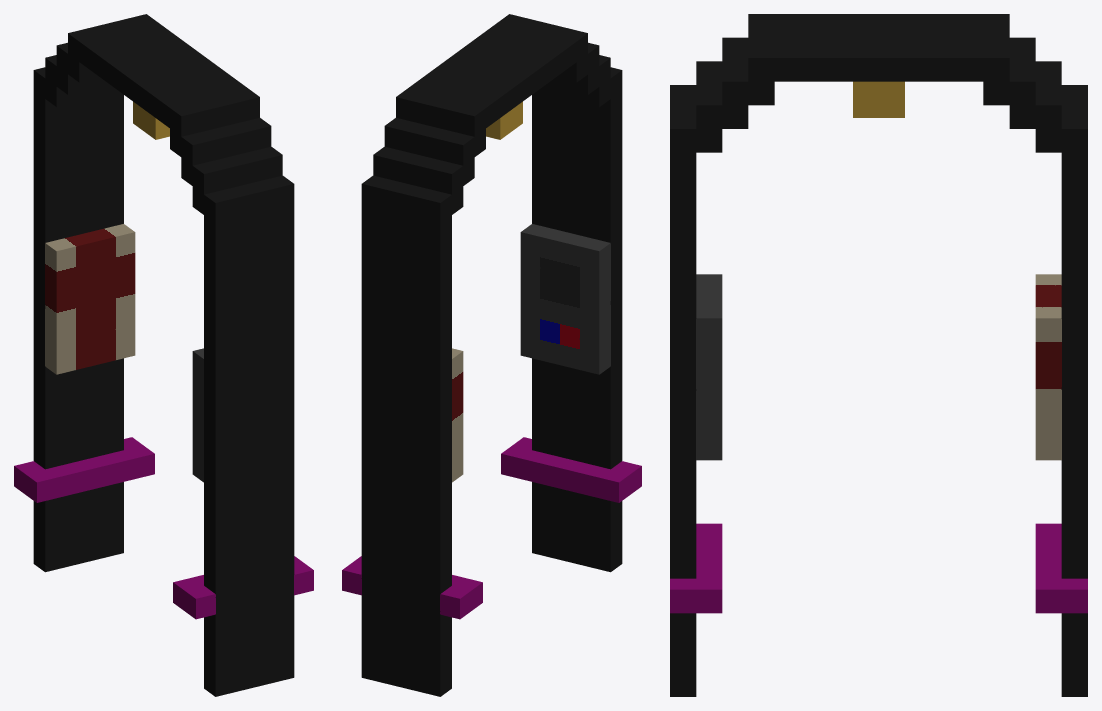
Rendered from ArchMagenta.fbx.
3 renders of one model, left to right at view 1: azimuth 30°, elevation 25°; view 2: azimuth 150°, elevation 25°; view 3: azimuth 270°, elevation 25°, orthographic. The views are drawn at different scales.
Parts seen in each view (by area): view 1: Matrix; view 2: Matrix; view 3: Matrix.
Boxes of the visible parts, bbox=[...] form: Matrix: bbox=[14, 14, 313, 696]; Matrix: bbox=[342, 14, 641, 696]; Matrix: bbox=[670, 14, 1087, 696].
Bounding box in the file's own units: 6 × 27 × 16.
